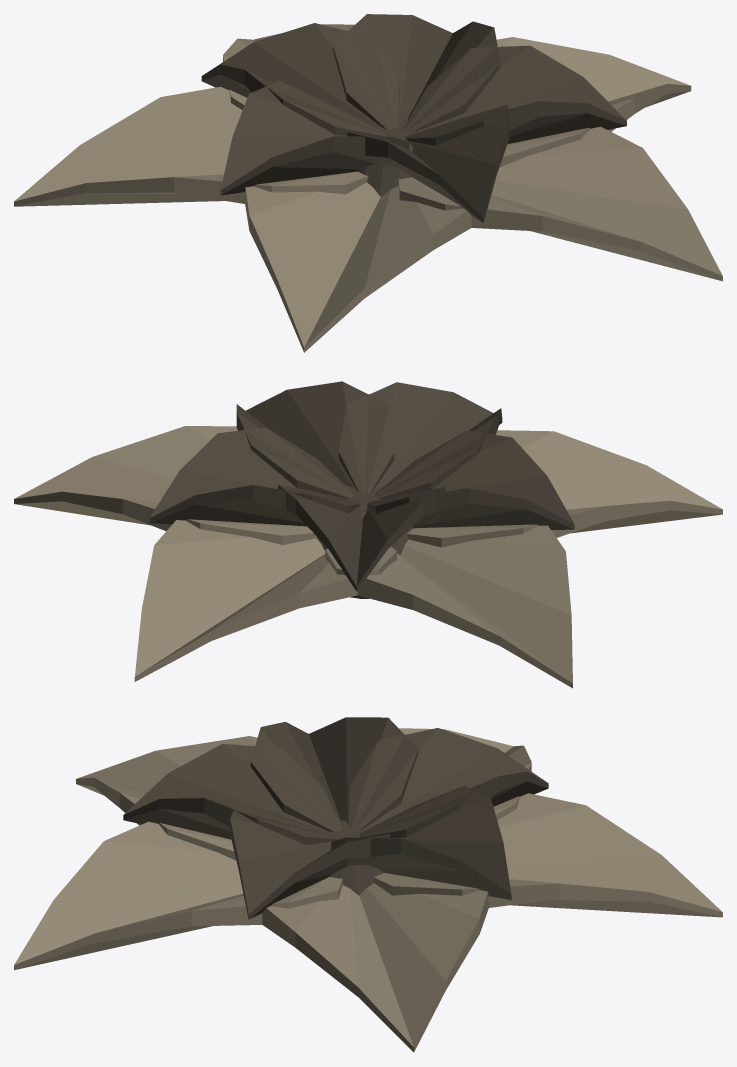
File: toxipotato.obj
The picture shows the model from 3 angles, top to bottom: view 1: azimuth 30°, elevation 25°; view 2: azimuth 150°, elevation 25°; view 3: azimuth 270°, elevation 25°; orthographic projection. The views are drawn at different scales.
Parts seen in each view (by area): view 1: toxipotato_4, toxipotato_3, toxipotato_2, toxipotato_9, toxipotato_5, toxipotato_6, toxipotato_7, toxipotato_8, toxipotato_0, toxipotato_10, toxipotato_1; view 2: toxipotato_1, toxipotato_2, toxipotato_3, toxipotato_0, toxipotato_5, toxipotato_7, toxipotato_9, toxipotato_8, toxipotato_6, toxipotato_10; view 3: toxipotato_4, toxipotato_0, toxipotato_1, toxipotato_8, toxipotato_7, toxipotato_6, toxipotato_5, toxipotato_9, toxipotato_3, toxipotato_10, toxipotato_2.
Boxes of the visible parts, x1,y1,x2,y2 form: toxipotato_4: [398, 126, 722, 281]; toxipotato_3: [245, 182, 471, 352]; toxipotato_2: [14, 86, 368, 206]; toxipotato_9: [403, 45, 626, 145]; toxipotato_5: [333, 14, 500, 131]; toxipotato_6: [201, 23, 399, 136]; toxipotato_7: [220, 81, 409, 195]; toxipotato_8: [347, 104, 509, 222]; toxipotato_0: [496, 37, 691, 167]; toxipotato_10: [358, 119, 420, 196]; toxipotato_1: [223, 24, 354, 109]; toxipotato_1: [134, 520, 396, 681]; toxipotato_2: [325, 525, 572, 688]; toxipotato_3: [407, 430, 722, 547]; toxipotato_0: [14, 426, 316, 544]; toxipotato_5: [149, 427, 360, 526]; toxipotato_7: [367, 430, 574, 529]; toxipotato_9: [236, 381, 394, 498]; toxipotato_8: [338, 382, 502, 499]; toxipotato_6: [278, 484, 445, 591]; toxipotato_10: [317, 485, 413, 598]; toxipotato_4: [14, 821, 342, 970]; toxipotato_0: [262, 883, 488, 1052]; toxipotato_1: [373, 793, 722, 917]; toxipotato_8: [123, 744, 342, 844]; toxipotato_7: [250, 717, 418, 832]; toxipotato_6: [348, 728, 548, 837]; toxipotato_5: [331, 785, 511, 900]; toxipotato_9: [230, 802, 389, 919]; toxipotato_3: [76, 736, 257, 860]; toxipotato_10: [325, 820, 384, 895]; toxipotato_2: [399, 728, 531, 820].
Size of the model in its own units: 0.7534 by 0.1546 by 0.7493.
